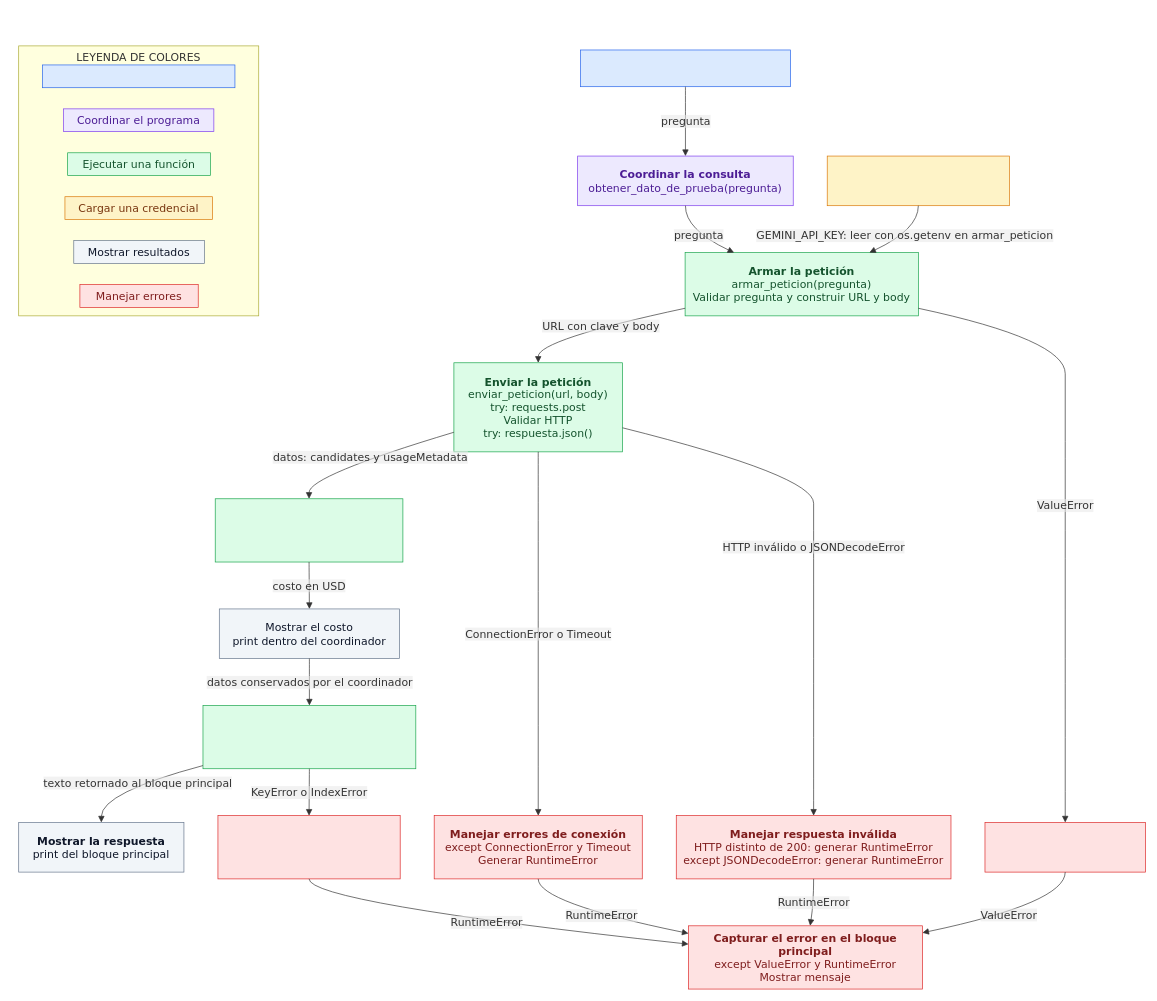
Image size: 1157x1001. Some labels were removed from this diagram. Each missing label, with the centre of its shape:
Calcular el costo calcular_costo(datos, precios) Leer usageMetadata: [309,530]
Cargar la credencial .env mediante load_dotenv(): [918,180]
Definir la pregunta en el programa: [685,68]
Extraer el texto extraer_texto(datos) try: acceder al texto de candidates: [309,737]
Manejar ausencia de texto except KeyError e IndexError Generar RuntimeError: [308,847]
Realizar una acción del usuario: [138,76]
Rechazar pregunta vacía Generar ValueError: [1064,847]
